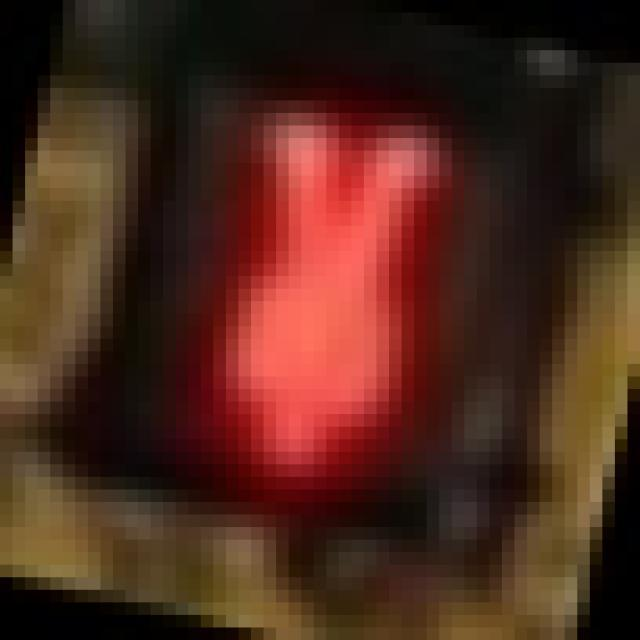red-crossing: (88, 64, 514, 554)
